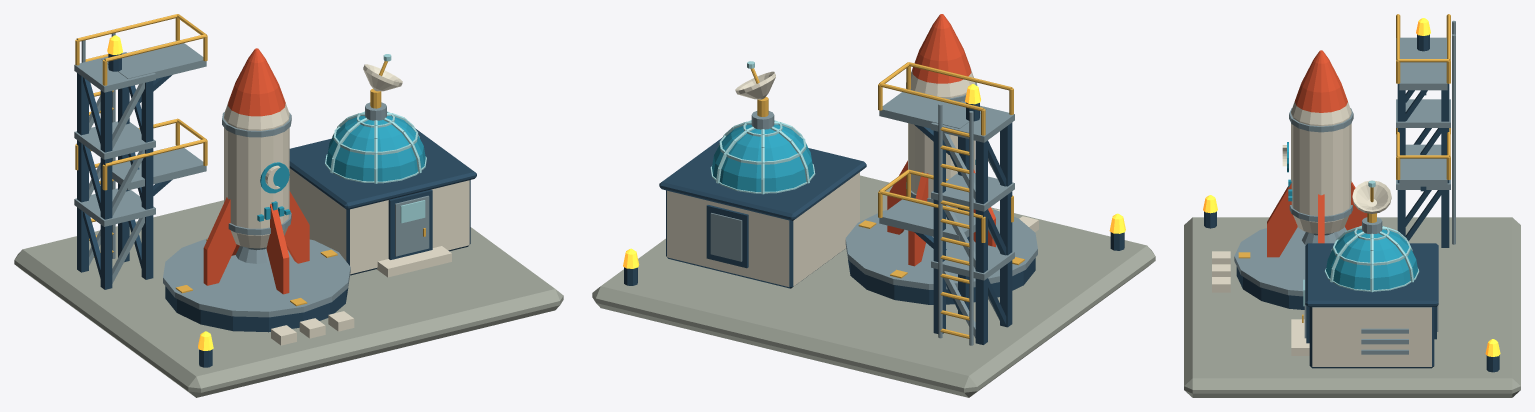
Rendered from luna-lv1.glb.
3 renders of one model, left to right at view 1: azimuth 30°, elevation 25°; view 2: azimuth 150°, elevation 25°; view 3: azimuth 270°, elevation 25°, orthographic. The views are drawn at different scales.
Visible parts, largest first — view 1: Luna_L1, Ocean_Explorer, Moon_Tracking_Dish; view 2: Luna_L1, Ocean_Explorer, Moon_Tracking_Dish; view 3: Luna_L1, Ocean_Explorer, Moon_Tracking_Dish.
Boxes of the visible parts, x1=… form: Luna_L1: x1=14, y1=14, x2=563, y2=397; Ocean_Explorer: x1=203, y1=48, x2=309, y2=294; Moon_Tracking_Dish: x1=363, y1=54, x2=402, y2=108; Luna_L1: x1=592, y1=62, x2=1155, y2=397; Ocean_Explorer: x1=887, y1=14, x2=995, y2=266; Moon_Tracking_Dish: x1=735, y1=61, x2=775, y2=116; Luna_L1: x1=1184, y1=14, x2=1520, y2=397; Ocean_Explorer: x1=1267, y1=50, x2=1367, y2=257; Moon_Tracking_Dish: x1=1352, y1=180, x2=1391, y2=222.
Bounding box in the file's own units: 5.5 × 3.72 × 4.65.
